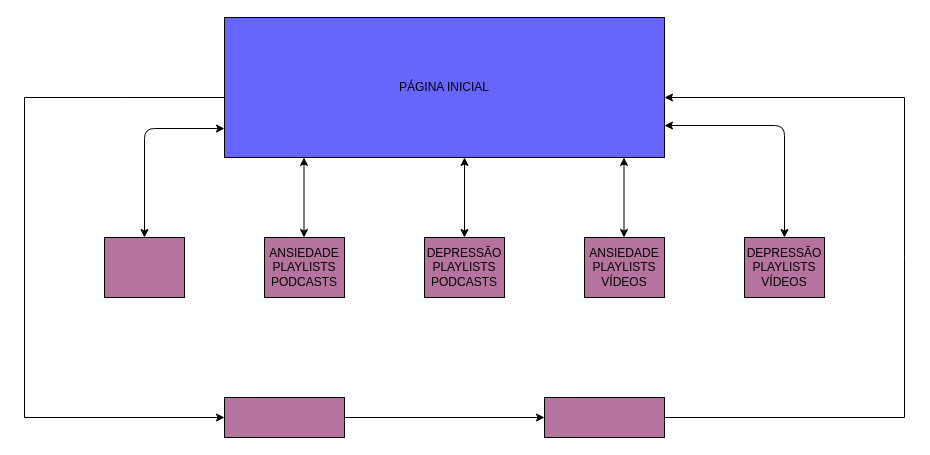
Image size: 930x455. Some labels were removed from this diagram. The shapes that lost their labels are listed below. From the top down, each one's box as (x1, y1, x2, y2) in pixels, then its label:
(104, 236, 184, 298): PLAYLISTS MÚSICAS
(224, 396, 344, 438): CADASTRO
(544, 396, 664, 438): EDITAR PERFIL
